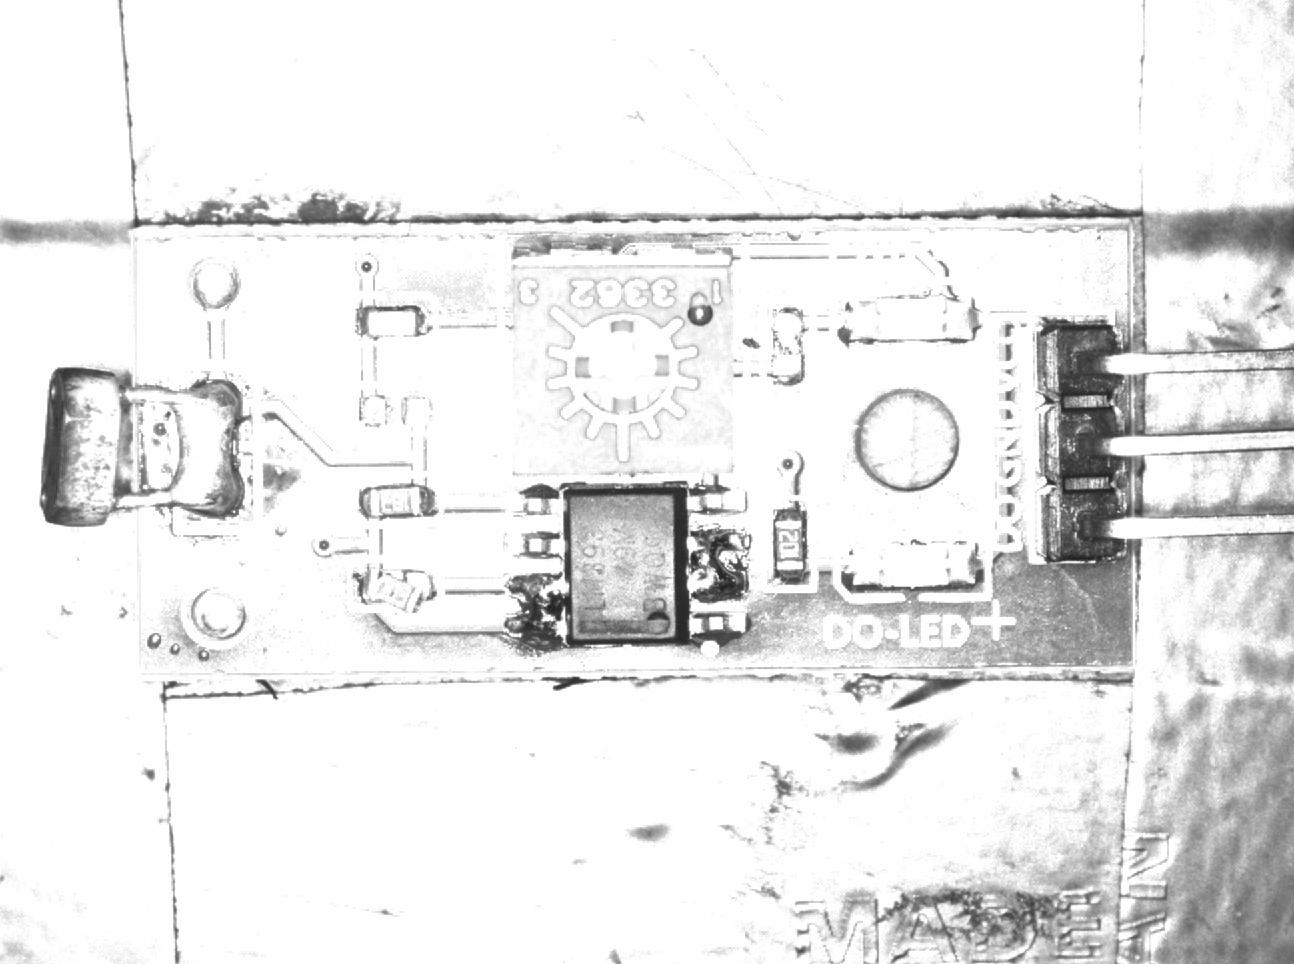bridge: (149, 369, 264, 535), (680, 519, 759, 614), (508, 564, 571, 655)
lifted: (344, 553, 441, 621)
miss: (344, 384, 448, 440), (760, 295, 814, 398)
ok: (344, 468, 444, 534), (340, 291, 439, 349), (765, 494, 819, 595)
